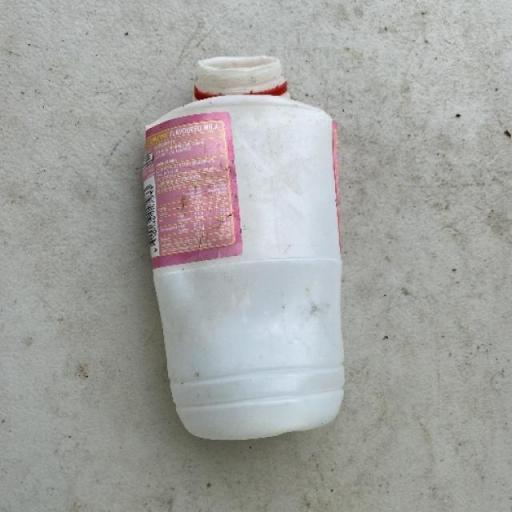plastic: (141, 54, 345, 440)
